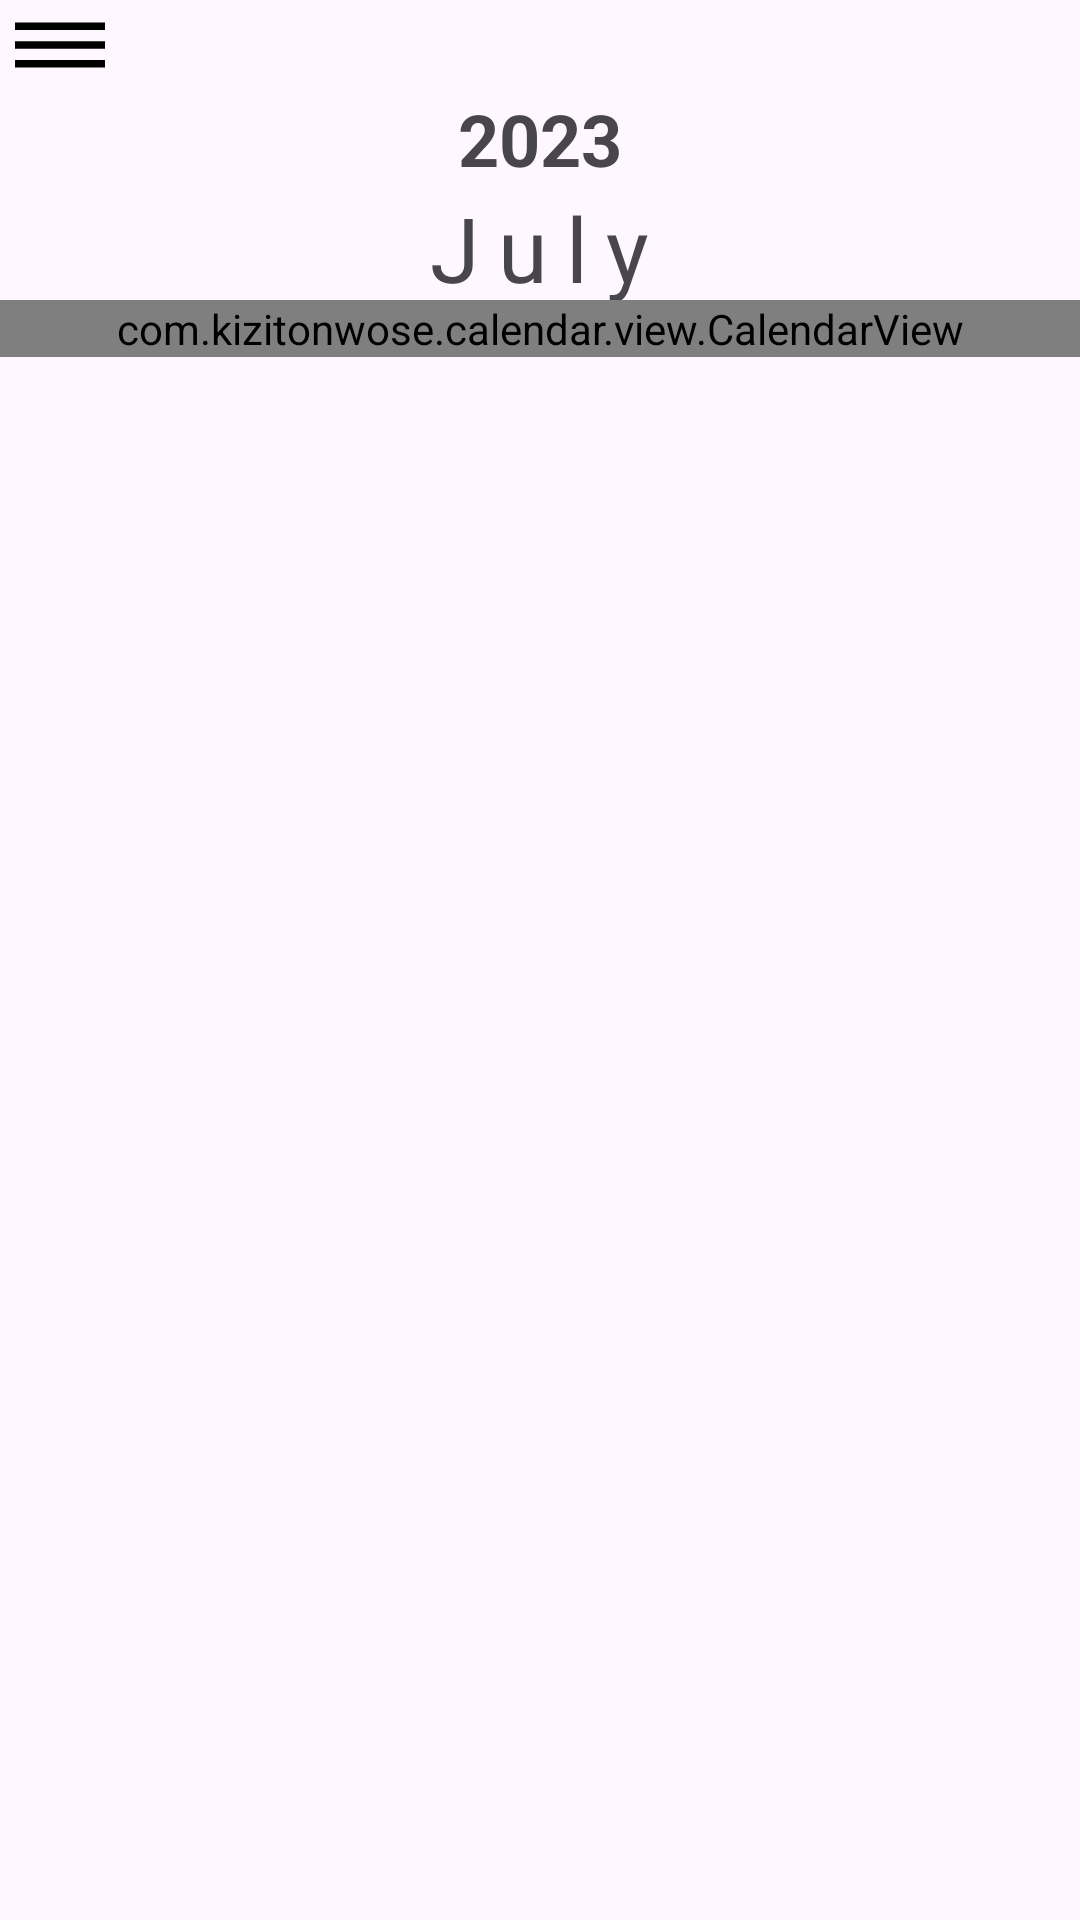

Screen size 1080x1920. Icon name, then its box in pixels as [x1, y1, x2, y2]:
menu: [15, 22, 105, 68]
